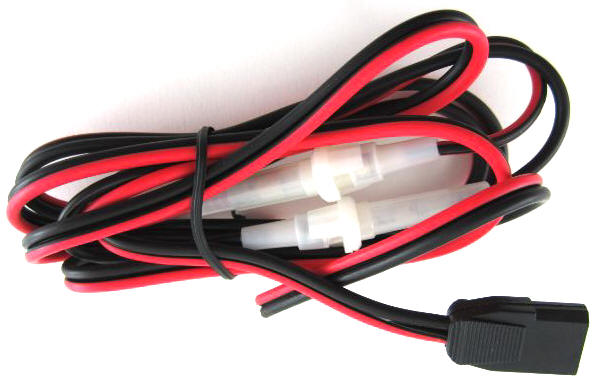Nonrec_Tangler: (1, 7, 589, 373)
